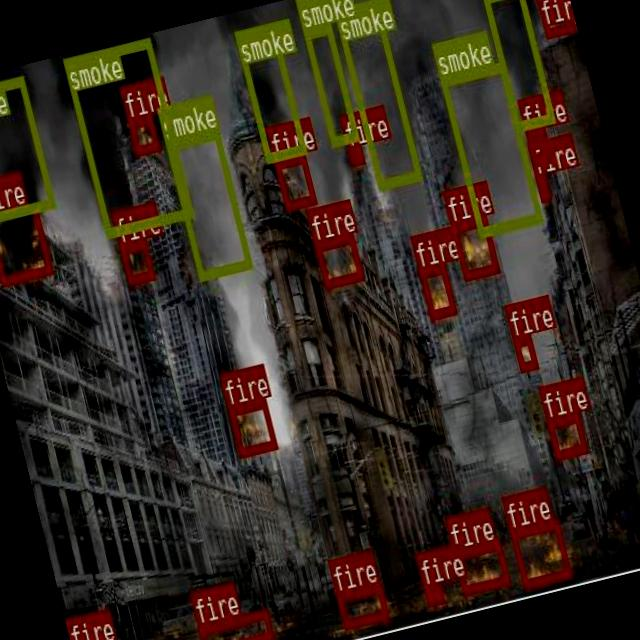fire: (507, 516, 571, 588), (0, 200, 52, 285), (448, 214, 498, 278), (452, 540, 509, 592), (227, 398, 277, 456), (313, 232, 363, 288), (272, 151, 316, 210), (335, 582, 388, 628), (197, 608, 272, 640), (417, 262, 455, 318), (544, 412, 586, 458), (118, 238, 153, 284), (534, 0, 574, 37), (126, 113, 158, 154), (525, 128, 552, 166), (511, 332, 536, 371), (421, 580, 444, 606), (534, 173, 550, 200), (347, 144, 362, 164)
smoke: (61, 37, 192, 237), (439, 60, 541, 235), (332, 0, 421, 188), (164, 128, 251, 280), (232, 20, 304, 160), (481, 0, 554, 129), (0, 74, 53, 225), (302, 22, 358, 144)
